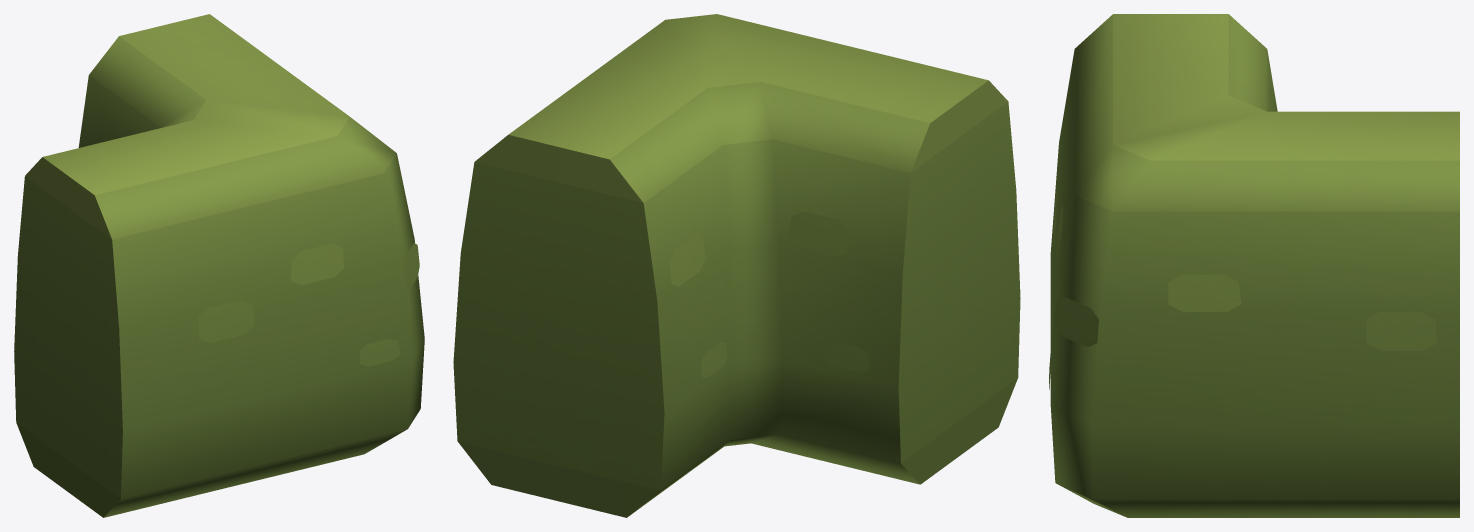
Rendered from hedge_element_L.fbx.
3 renders of one model, left to right at view 1: azimuth 30°, elevation 25°; view 2: azimuth 150°, elevation 25°; view 3: azimuth 270°, elevation 25°, orthographic. The views are drawn at different scales.
Visible parts, largest first — view 1: hedge_element_L; view 2: hedge_element_L; view 3: hedge_element_L.
Boxes of the visible parts, x1,y1,x2,y2 form: hedge_element_L: [14, 14, 424, 517]; hedge_element_L: [453, 14, 1020, 517]; hedge_element_L: [1049, 14, 1459, 517].
Size of the model in its own units: 212 by 200 by 213.
